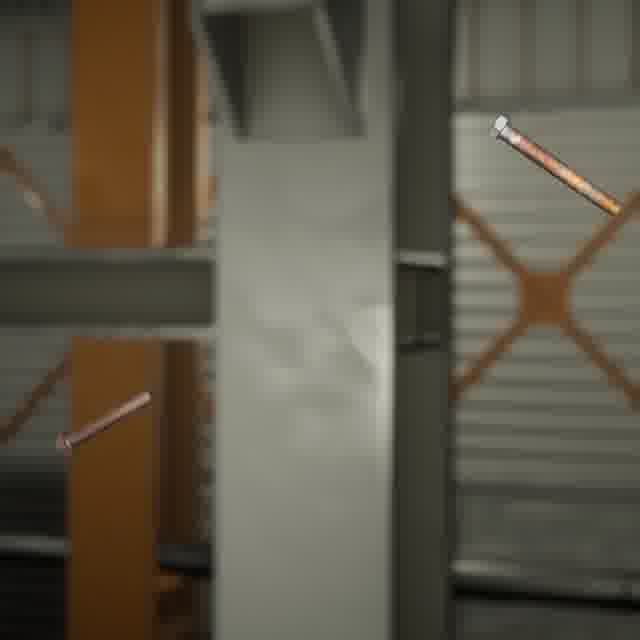bolt: (482, 109, 626, 220), (50, 385, 158, 461)
